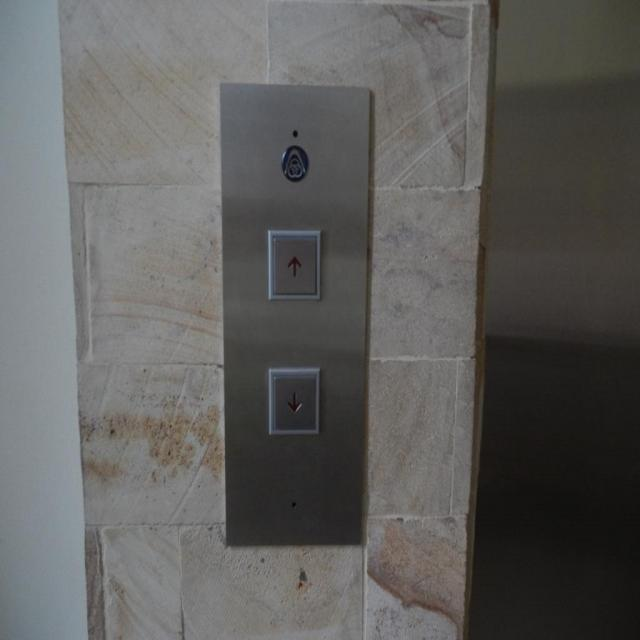down: (267, 368, 321, 434)
up: (266, 226, 321, 299)
